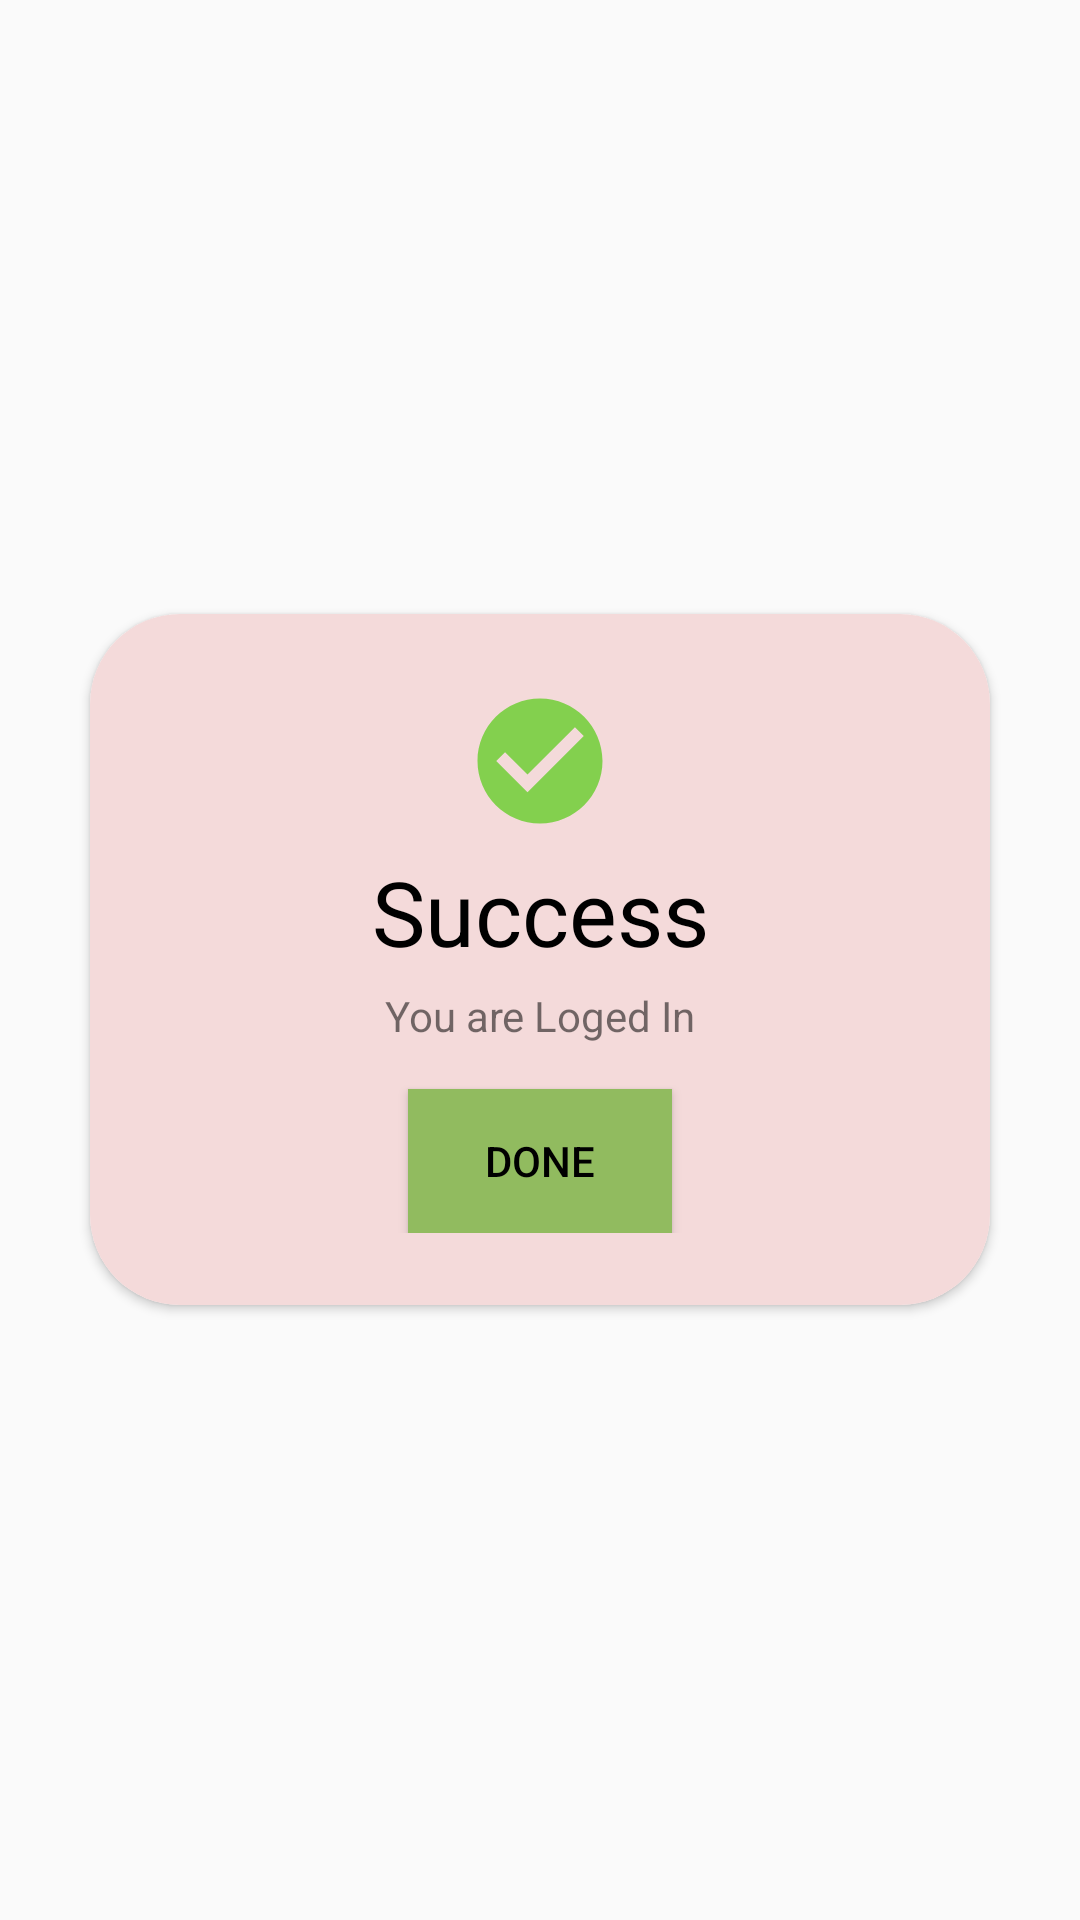

Screen size 1080w x 1920h. Icon name, then its box in pixels as box=[x1, y1, x2, y2]:
check circle: box=[477, 698, 603, 824]
